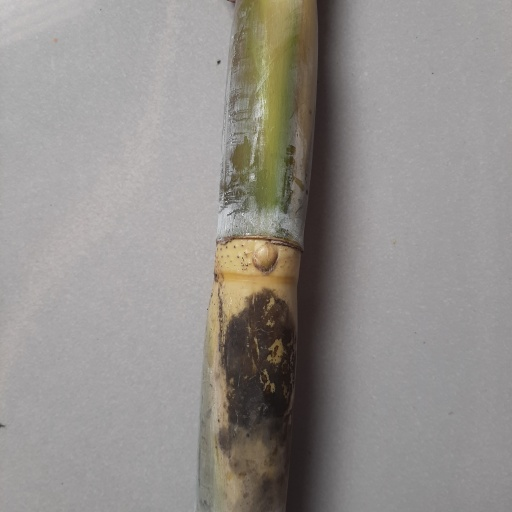Bud: (252, 242, 278, 272)
